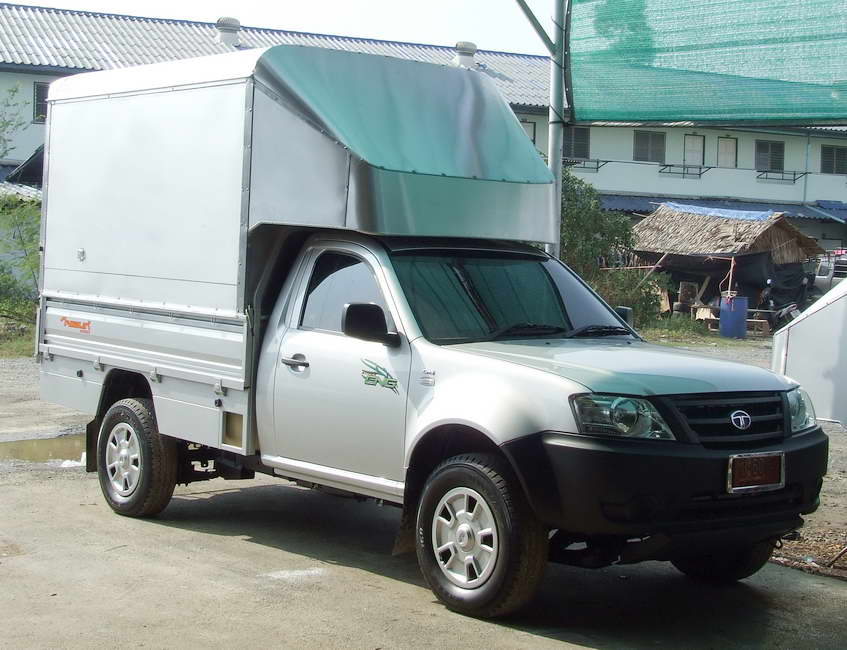pickup: (22, 228, 831, 628)
